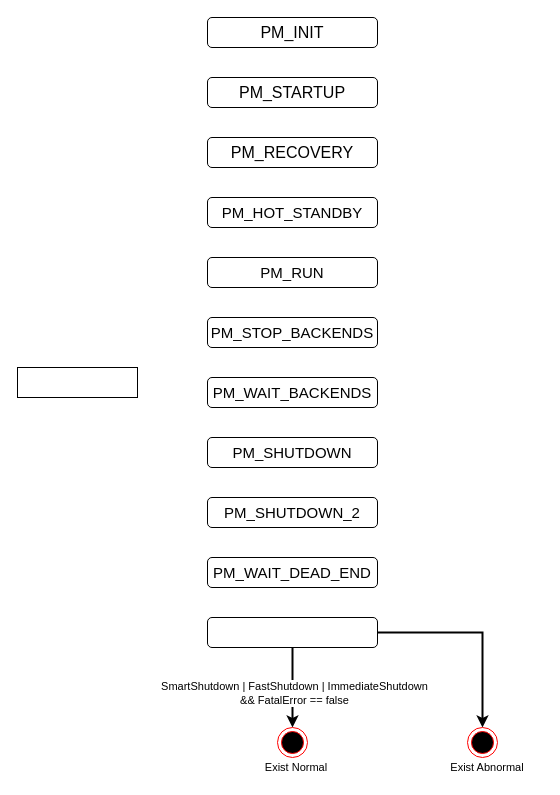
Some shapes in this 560 by 795 pixel diagram are drawn without their labels. Each missing label, with the centre of its shape:
PM_NO_CHILDREN: the point at 292,632
StartupDataBase: the point at 77,382
